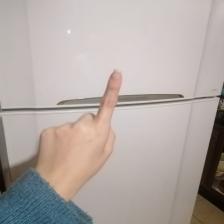one: (37, 67, 125, 180)
